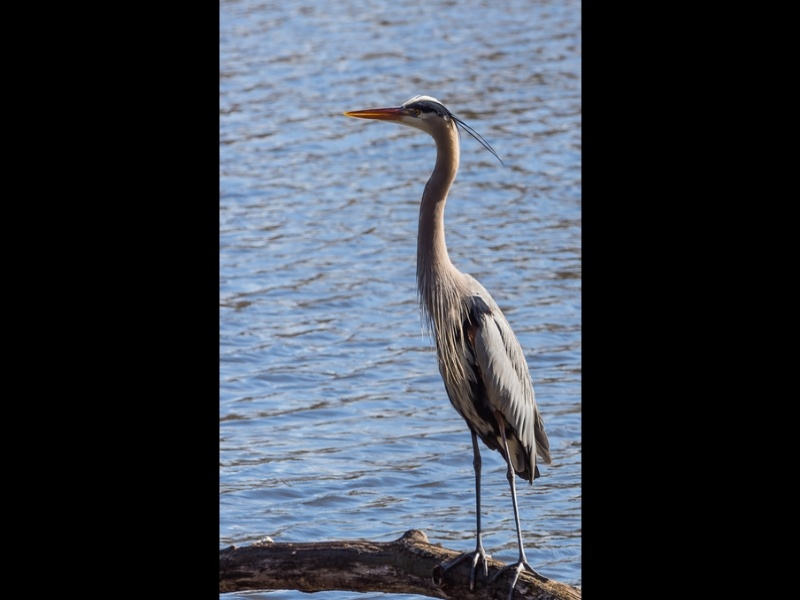heron: (344, 95, 565, 600)
